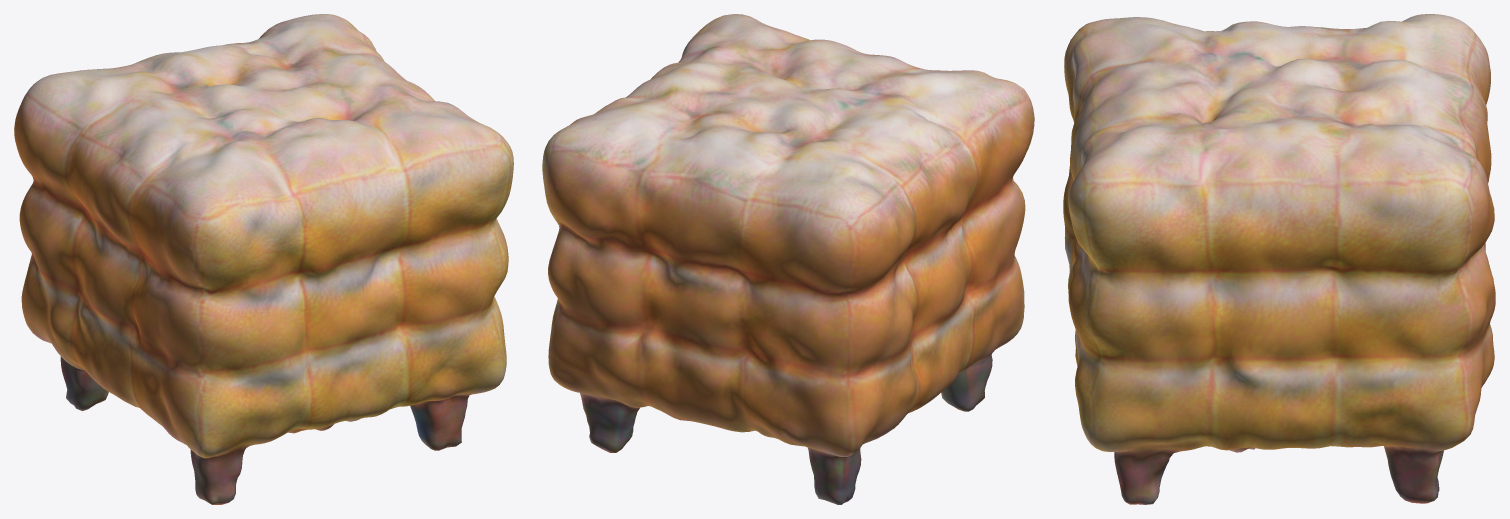
The picture shows the model from 3 angles, left to right: view 1: azimuth 30°, elevation 25°; view 2: azimuth 150°, elevation 25°; view 3: azimuth 270°, elevation 25°; orthographic projection. The views are drawn at different scales.
Parts seen in each view (by area): view 1: Mesh1; view 2: Mesh1; view 3: Mesh1.
Part boxes in pixels (x1,y1,x2,y2): Mesh1: (14,14,513,504); Mesh1: (542,14,1034,504); Mesh1: (1063,14,1495,504).
Size of the model in its own units: 1.2 by 1.12 by 1.2.
Materials: 1 (1 with a texture image).
